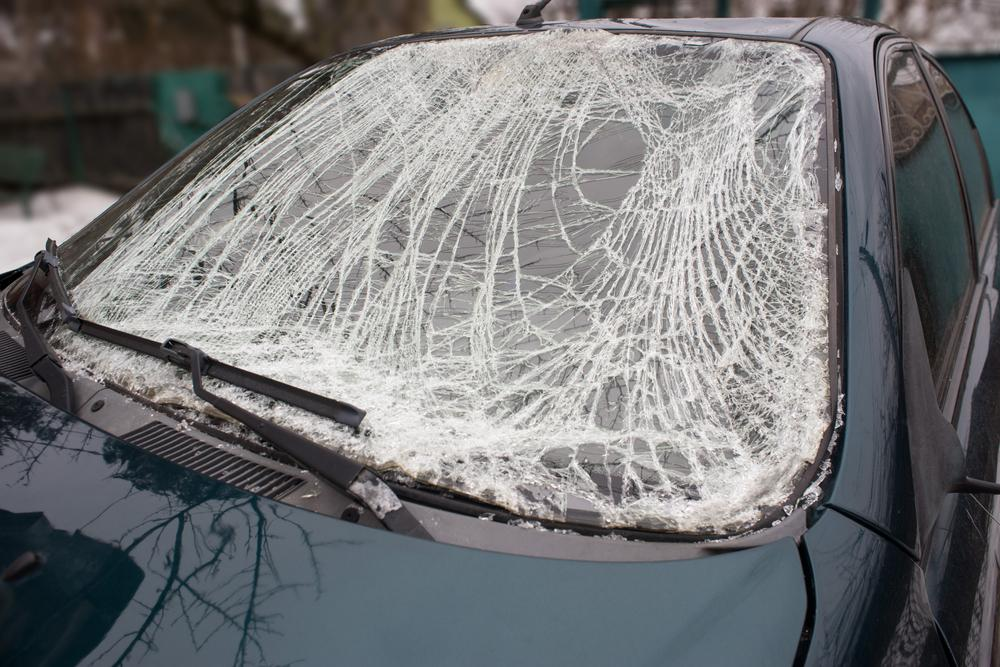glass shatter: (38, 26, 829, 533)
